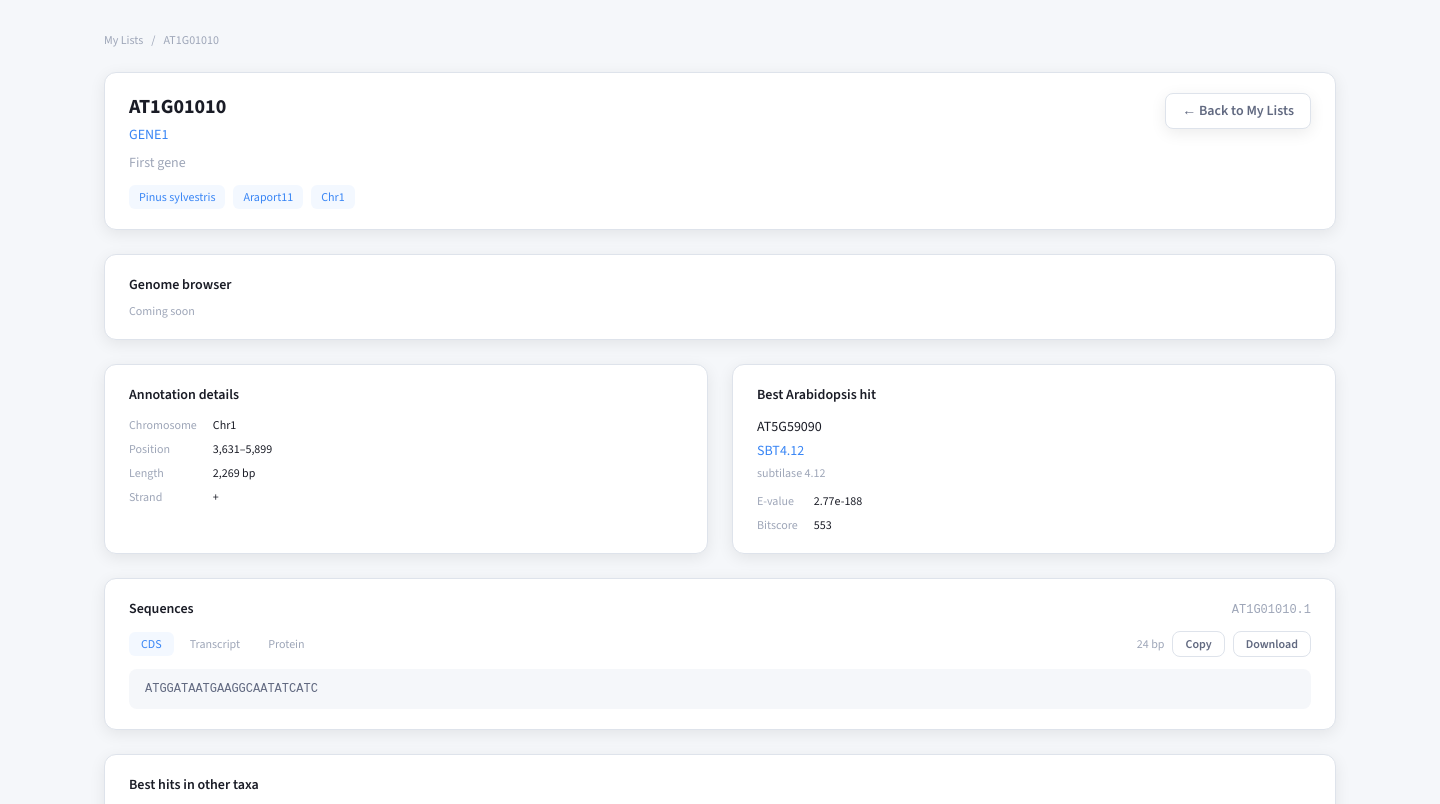
Test case: GenePage › shows the protein sequence after selecting the protein tab
This screenshot has width=1440, height=804.
Click the tab "Protein" at (286, 644), box [256,632,317,656]
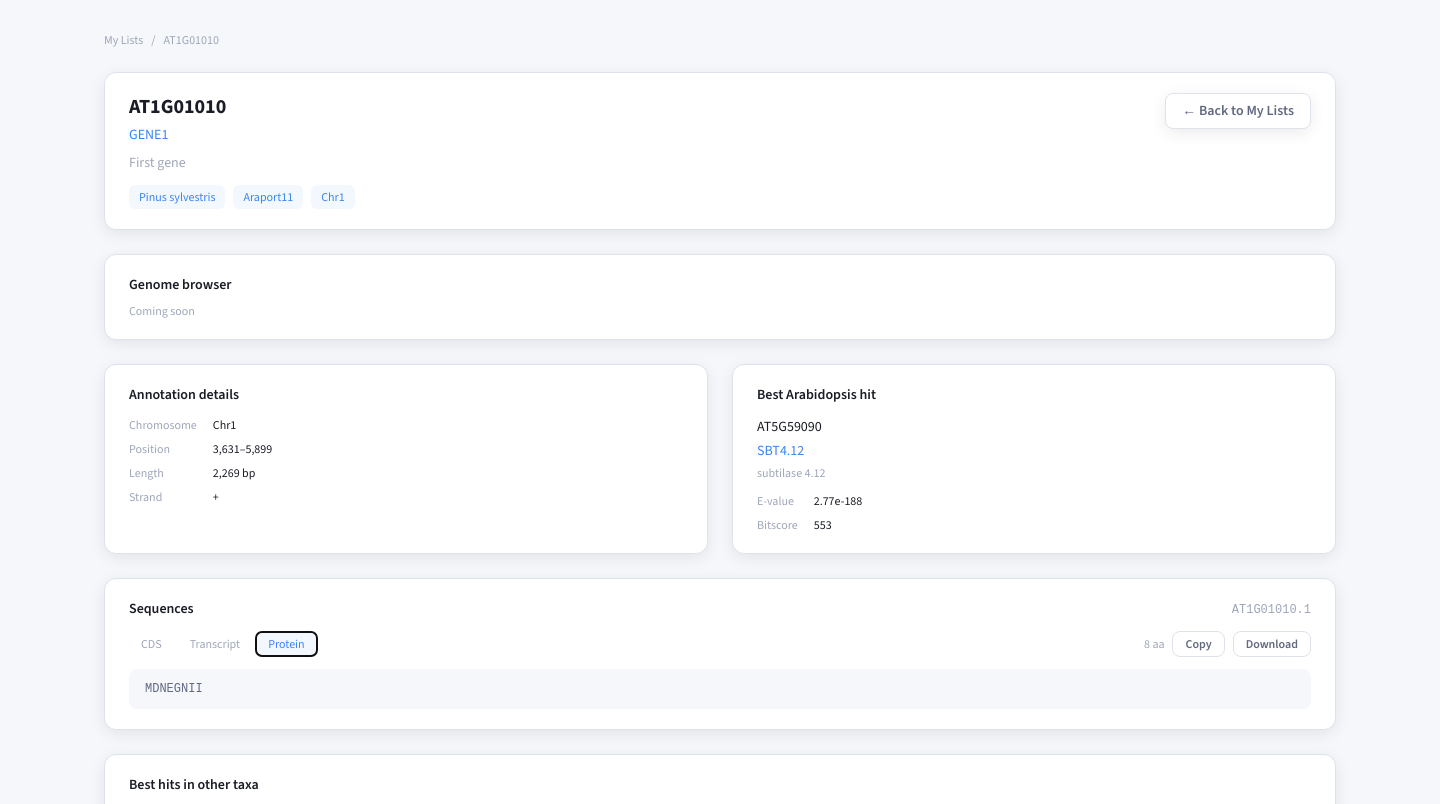
Expected: the text "MDNEGNII" is shown, [129,669,1311,709]
Expected: the text "8 aa" is shown, [1144,636,1164,652]
